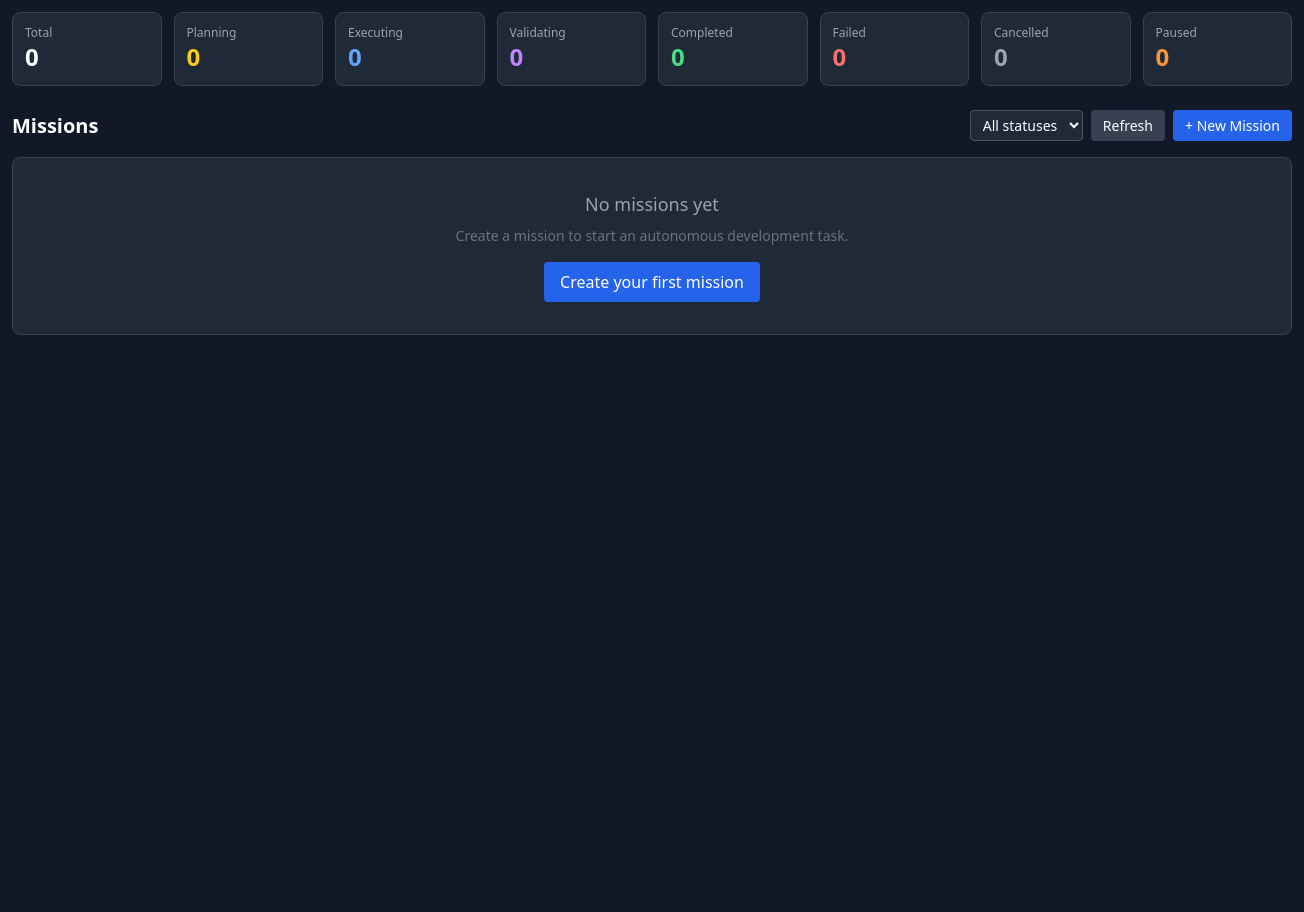
Missions component › create mission form › opens create form when clicking New Mission
Click the button "+ New Mission".
click(1232, 126)  # box [1173,110,1292,141]
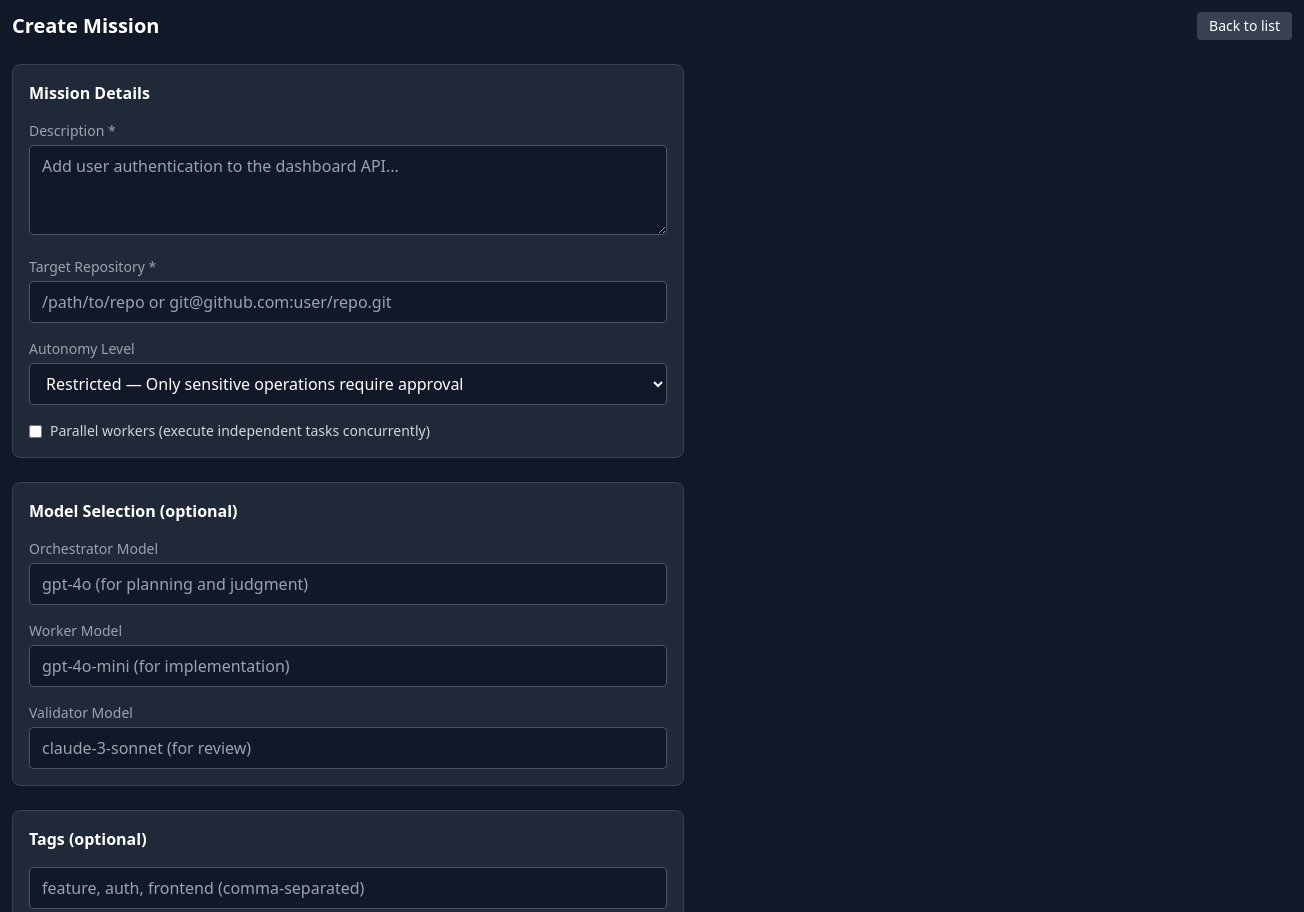
Check: the text box labelled "Description *" is shown, box [29,145,667,235]
Check: the field labelled "Target Repository *" is shown, box [29,281,667,323]
